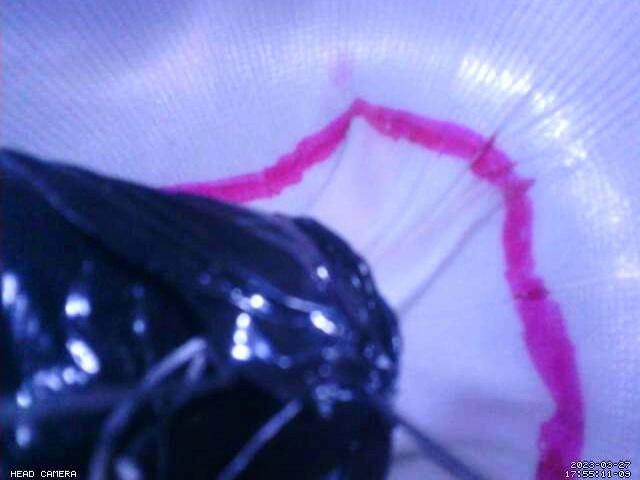red-circle: (160, 97, 588, 480)
